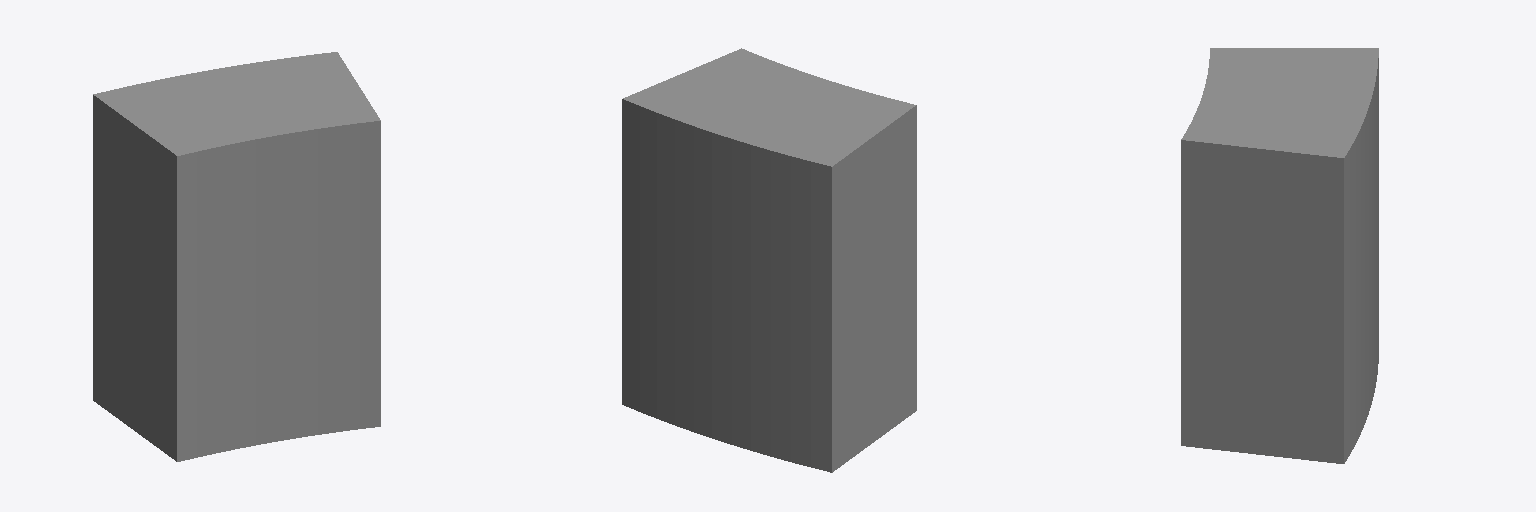
The model's file is platform_wide_size05.obj.
The picture shows the model from 3 angles: view 1: azimuth 30°, elevation 25°; view 2: azimuth 150°, elevation 25°; view 3: azimuth 270°, elevation 25°; orthographic projection.
Visible parts, largest first — view 1: MeshBody13; view 2: MeshBody13; view 3: MeshBody13.
Boxes of the visible parts, <box> form: MeshBody13: <box>93,52,380,461</box>; MeshBody13: <box>622,48,916,472</box>; MeshBody13: <box>1181,48,1378,463</box>.
Bounding box in the file's own units: 7.76 × 10 × 5.85.